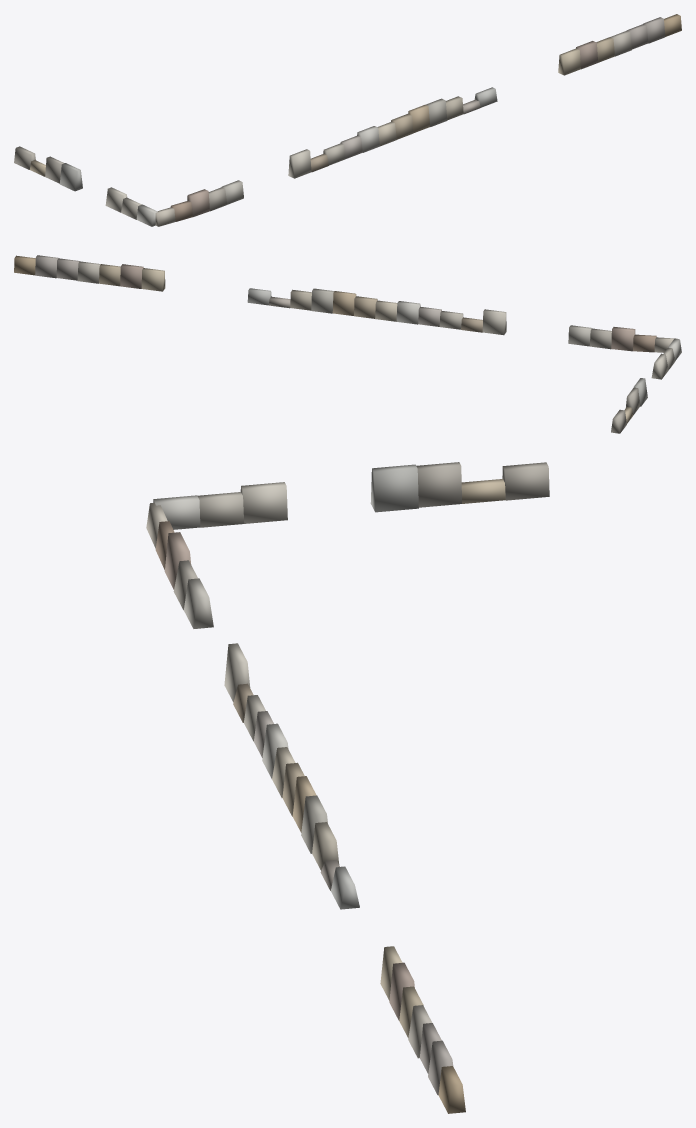
Rendered from farm_18_13_collision.glb.
The picture shows the model from 3 angles, top to bottom: view 1: azimuth 30°, elevation 25°; view 2: azimuth 150°, elevation 25°; view 3: azimuth 270°, elevation 25°; orthographic projection. The views are drawn at different scales.
Visible parts, largest first — view 1: geometry_0; view 2: geometry_0; view 3: geometry_0.
Part boxes in pixels (bbox=[...]): geometry_0: bbox=[14, 14, 681, 226]; geometry_0: bbox=[14, 255, 681, 433]; geometry_0: bbox=[146, 462, 549, 1113].
Bounding box in the file's own units: 49.82 × 1.92 × 13.86.
